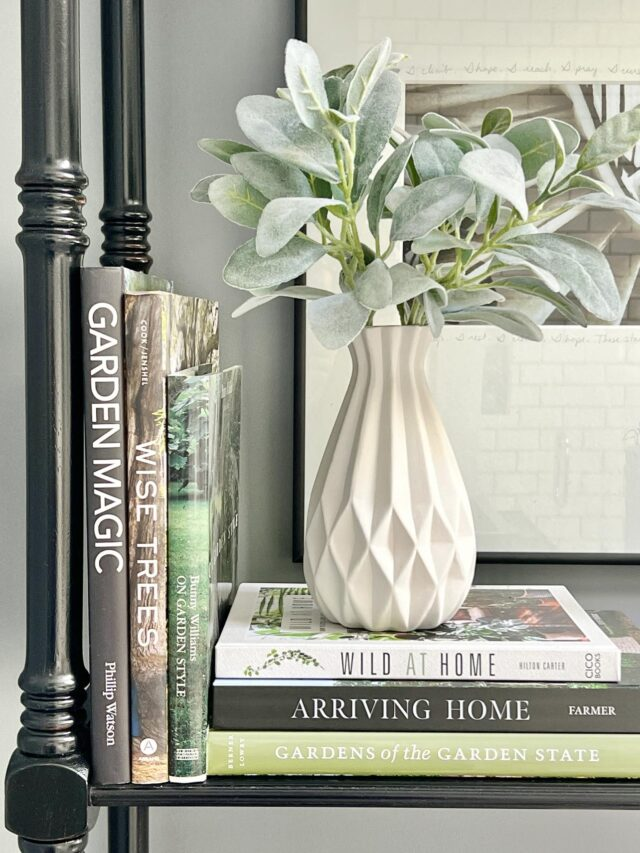not a gesture sign: (305, 327, 474, 630)
